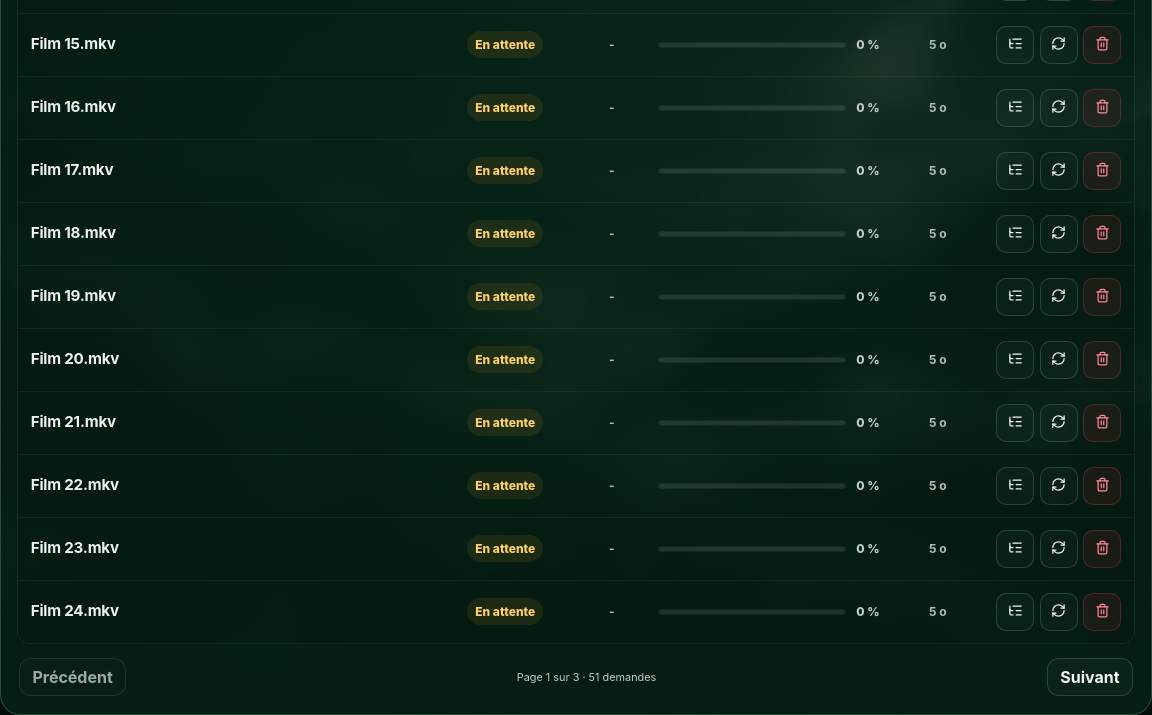
Test case: UserDownloadsPage › pagine par blocs de 25 et conserve les noms longs dans le résumé accessible
The image size is (1152, 715).
(page scrolled)
Expected: the text "Page 1 sur 3 · 51 demandes" is shown, [517,670,656,684]
Click the button "Suivant". click: (1090, 677)
box: [1047,658,1133,696]
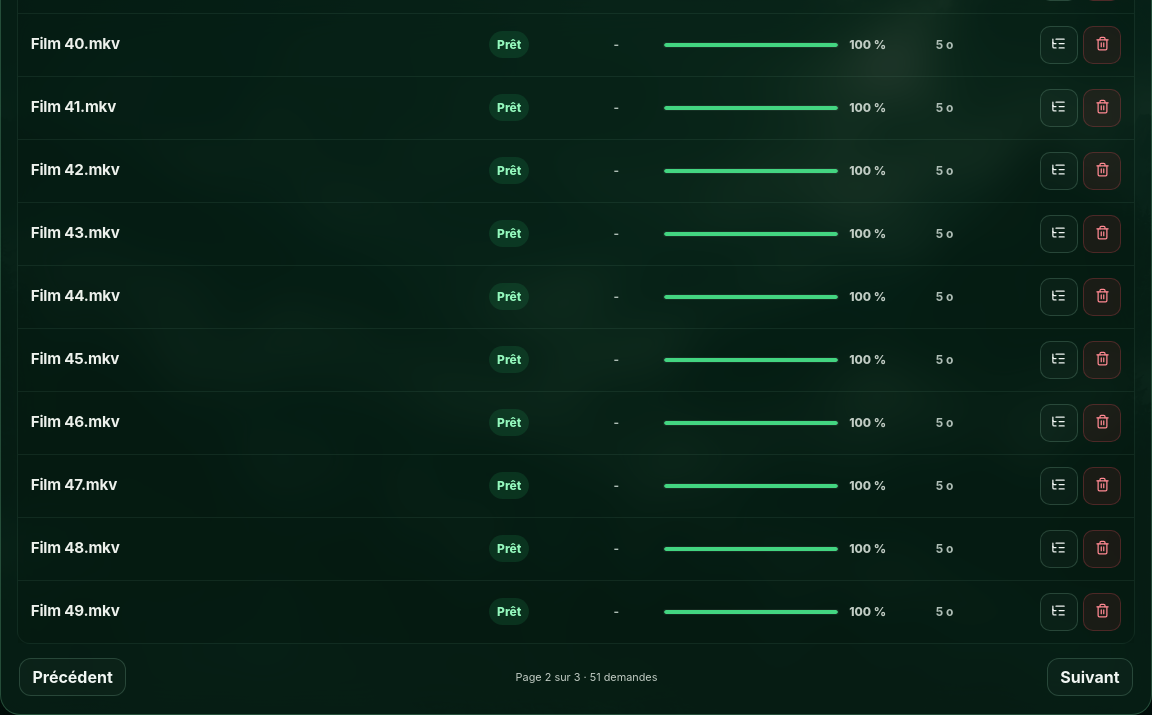
Click the button "Suivant". click: (1090, 677)
box: [1047,658,1133,696]
(page scrolled)
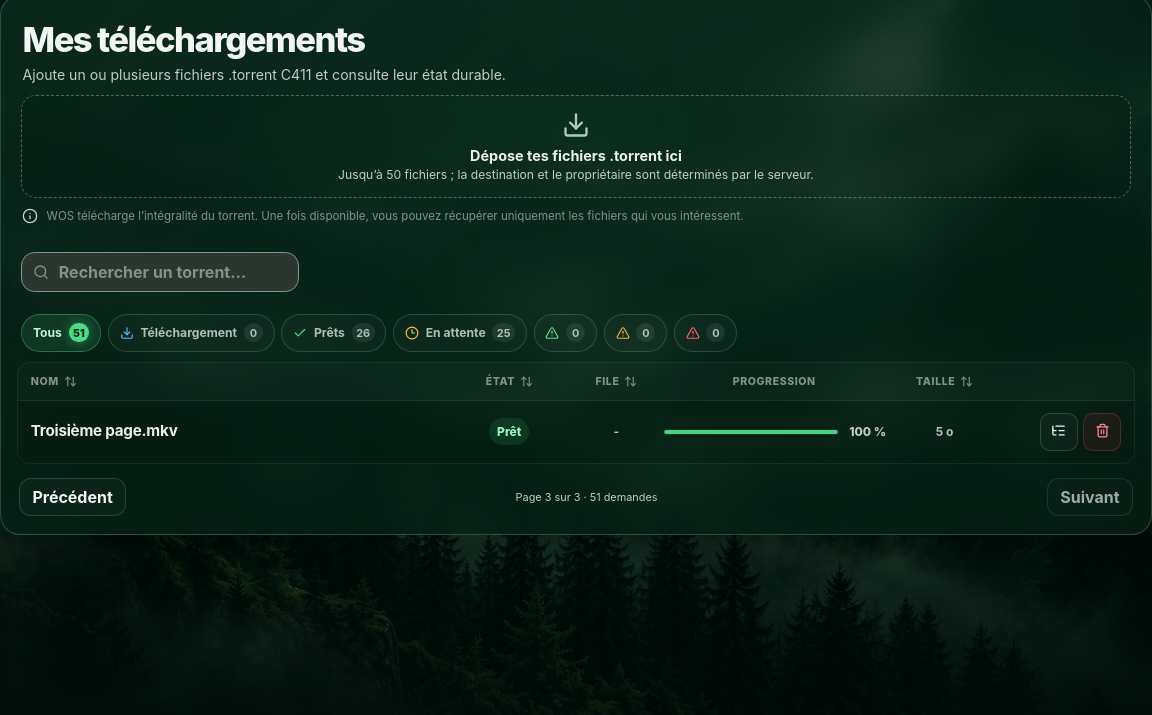
Result: the text "Troisième page.mkv" is shown at [31,421,178,440]
Click the button named "Prêts26". click: (334, 333)
box: [281,314,386,352]
(page scrolled)
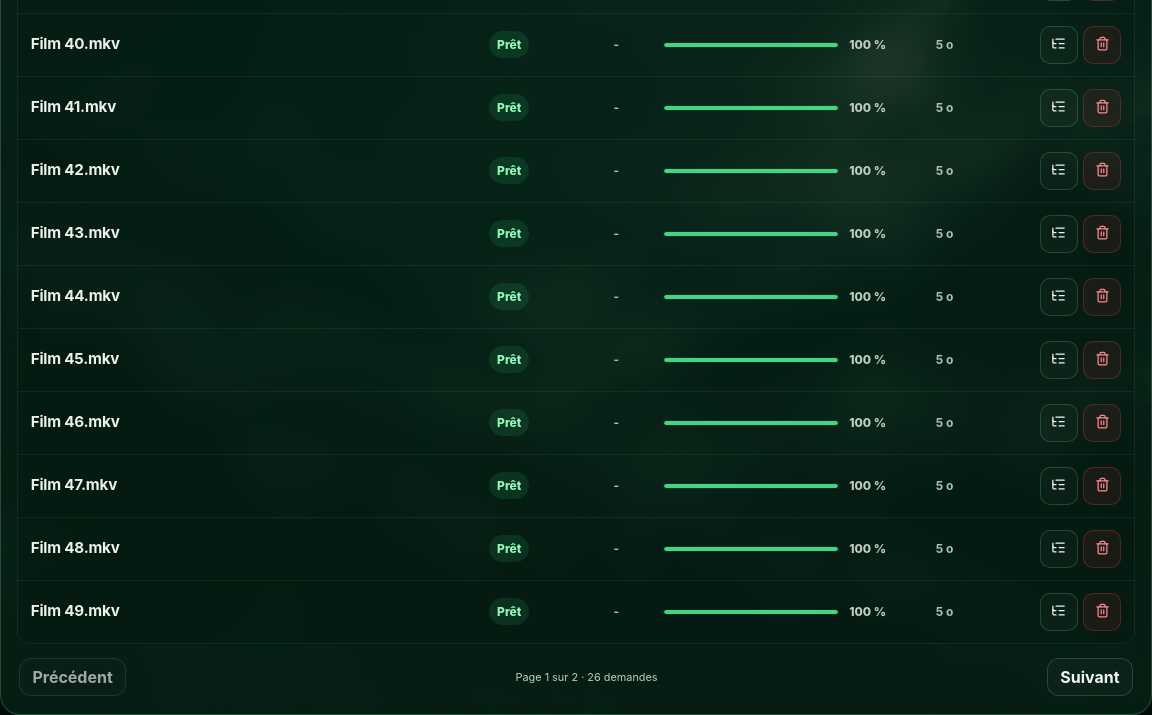
Result: the text "Page 1 sur 2 · 26 demandes" is shown at [516,670,658,684]
Click the button "Suivant". click: (1090, 677)
box: [1047,658,1133,696]
(page scrolled)
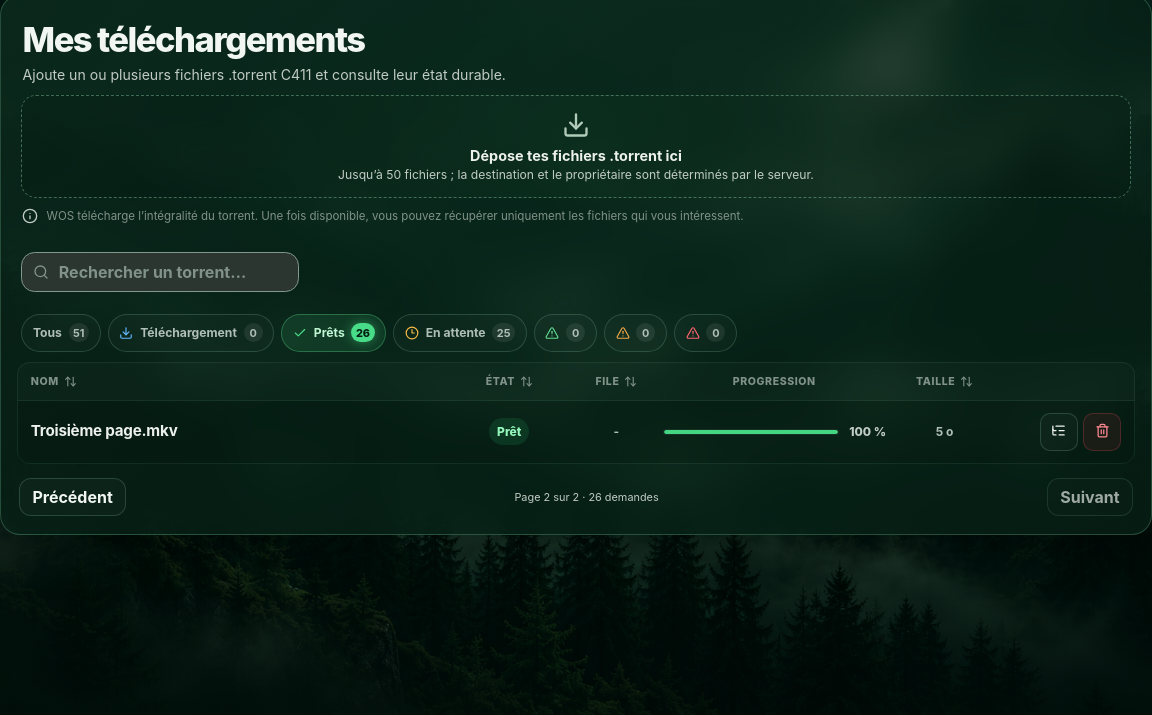
Result: the text "Troisième page.mkv" is shown at [31,421,178,440]
Type "Troisième" into the search field labelled "Rechercher un torrent". click: (160, 272)
box: [21,252,298,292]
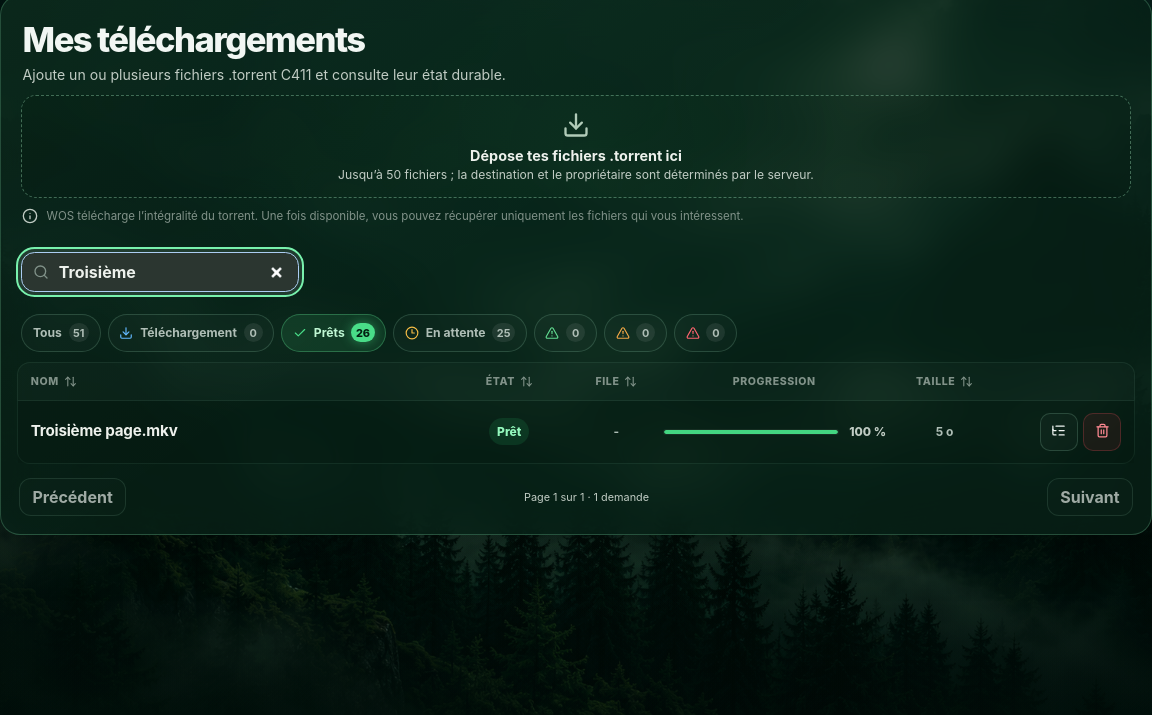
Result: the text "Page 1 sur 1 · 1 demande" is shown at [524,490,649,504]
